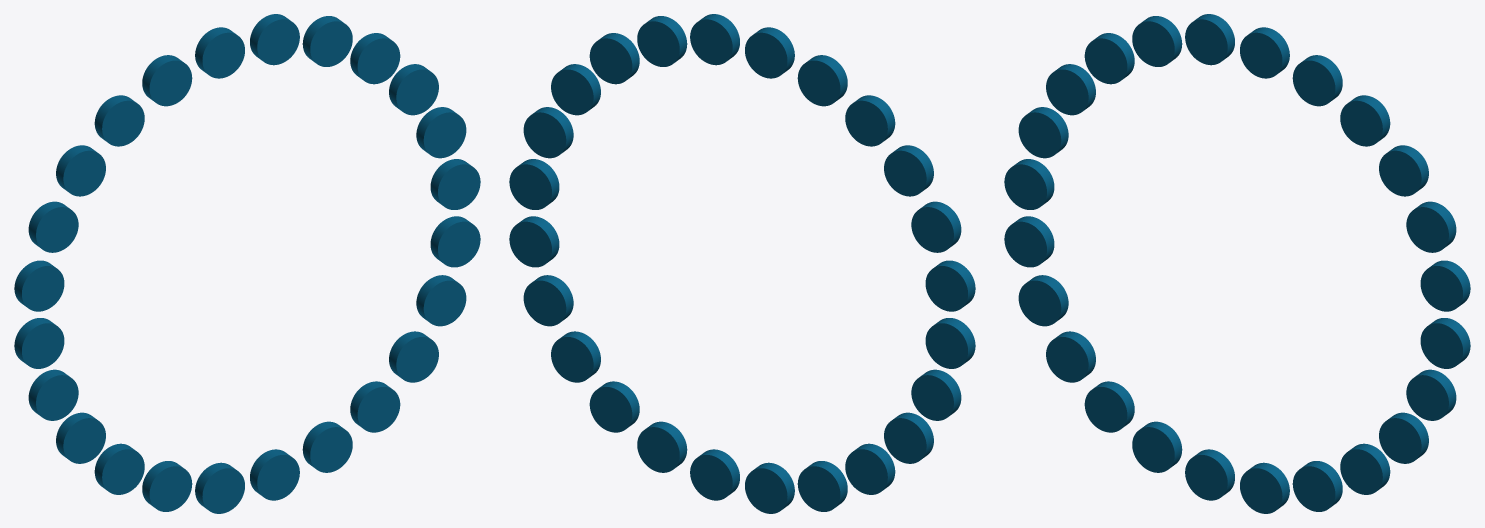
Rendered from MagSafe_Magnet_Array.obj.
3 renders of one model, left to right at view 1: azimuth 30°, elevation 25°; view 2: azimuth 150°, elevation 25°; view 3: azimuth 330°, elevation 25°, orthographic.
Parts seen in each view (by area): view 1: MagSafe_Magnet_Array; view 2: MagSafe_Magnet_Array; view 3: MagSafe_Magnet_Array.
Boxes of the visible parts, bbox=[...] form: MagSafe_Magnet_Array: bbox=[14, 14, 480, 513]; MagSafe_Magnet_Array: bbox=[509, 14, 975, 513]; MagSafe_Magnet_Array: bbox=[1004, 14, 1470, 513].
Size of the model in its own units: 53.83 by 53.83 by 1.5.
